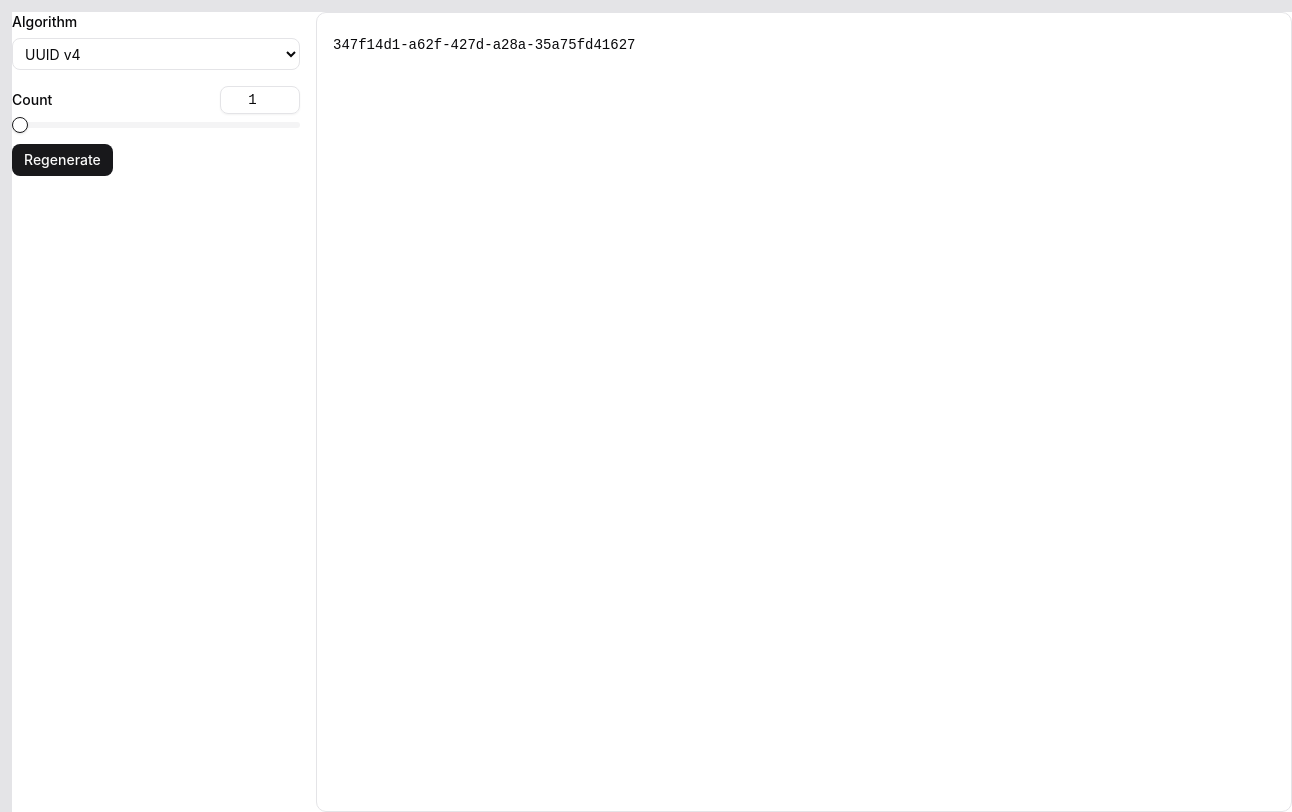
Test case: ObjectId algorithm generates a 24-char hex string
Select "ObjectId" in the dropdown: (156, 54) [12,38,300,70]
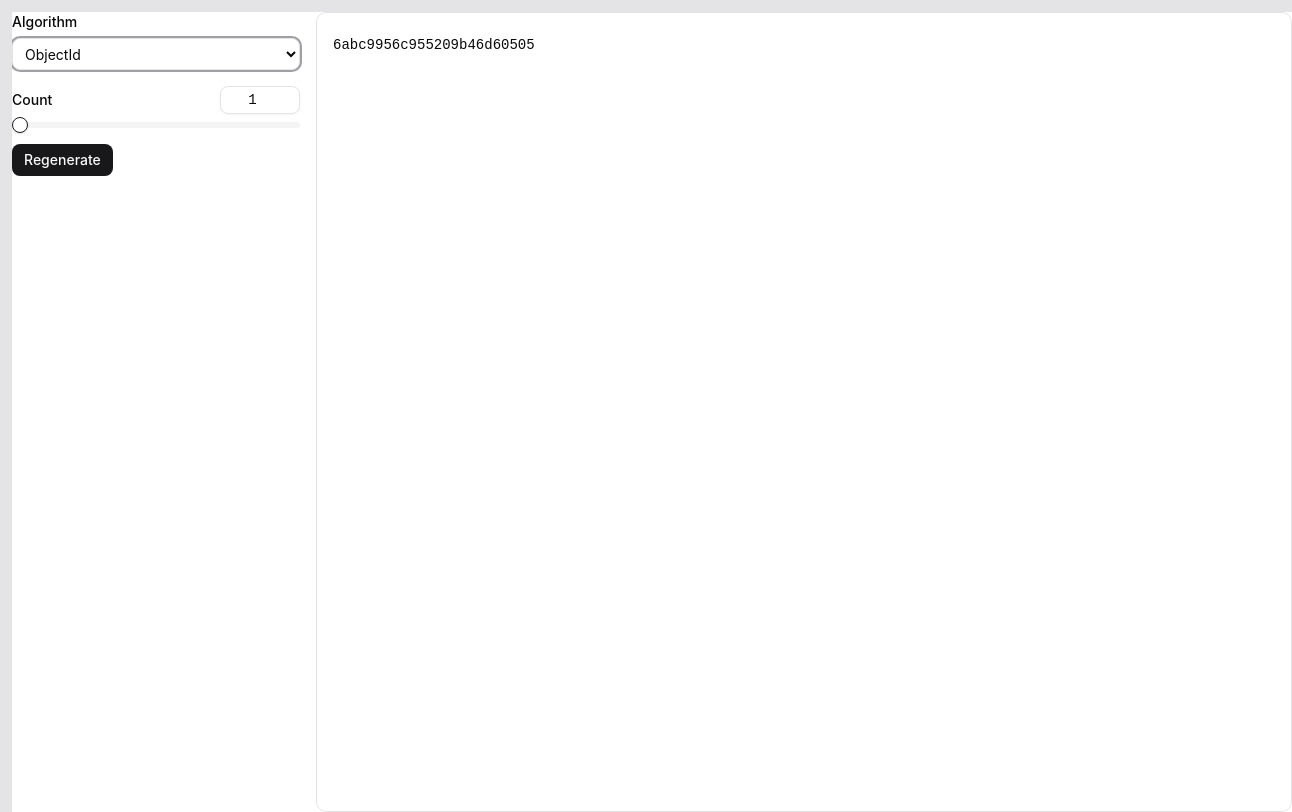
Result: the text "6abc9956c955209b46d60505" is shown at [333,37,535,53]
